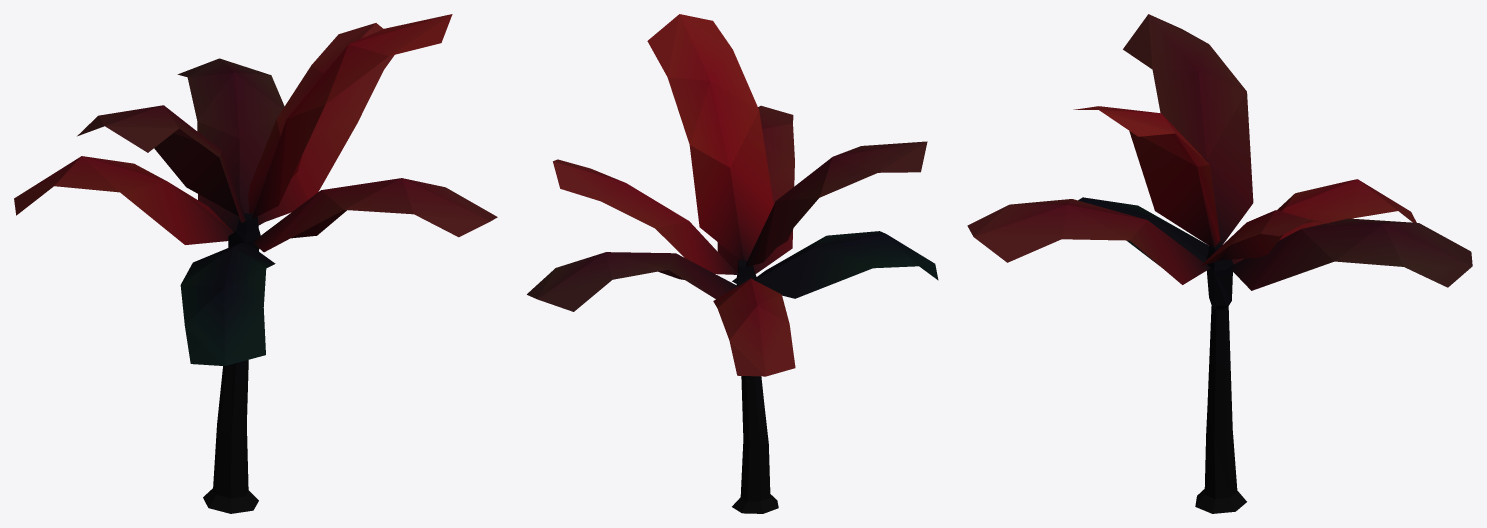
Rendered from banana_2013__lod.fbx.
3 views of the same model, side by side, from view 1: azimuth 30°, elevation 25°; view 2: azimuth 150°, elevation 25°; view 3: azimuth 270°, elevation 25° (orthographic). The views are drawn at different scales.
Visible parts, largest first — view 1: banana_2013 LOD; view 2: banana_2013 LOD; view 3: banana_2013 LOD.
Boxes of the visible parts, bbox=[...] form: banana_2013 LOD: bbox=[14, 14, 497, 513]; banana_2013 LOD: bbox=[527, 14, 938, 513]; banana_2013 LOD: bbox=[967, 14, 1472, 513].
Size of the model in its own units: 1.74 by 2.19 by 2.16.
